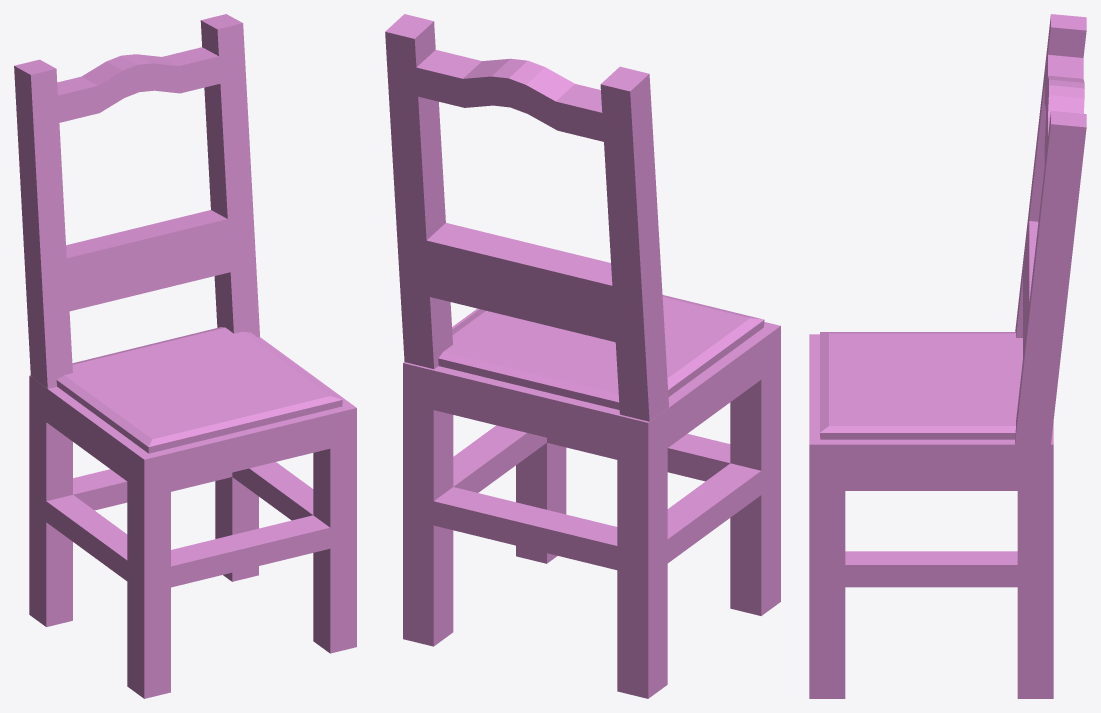
File: CadeiraRestauranteLow.fbx
3 views of the same model, side by side, from view 1: azimuth 30°, elevation 25°; view 2: azimuth 150°, elevation 25°; view 3: azimuth 270°, elevation 25° (orthographic). The views are drawn at different scales.
Parts seen in each view (by area): view 1: Cube.043; view 2: Cube.043; view 3: Cube.043.
Part boxes in pixels (<box>): Cube.043: <box>14,14,356,698</box>; Cube.043: <box>385,14,780,698</box>; Cube.043: <box>809,14,1086,698</box>.
Bounding box in the file's own units: 49.81 × 121 × 52.95.
